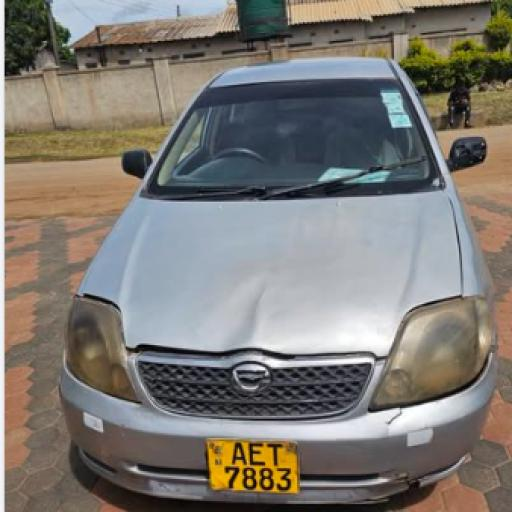number-plates: (204, 437, 296, 493)
